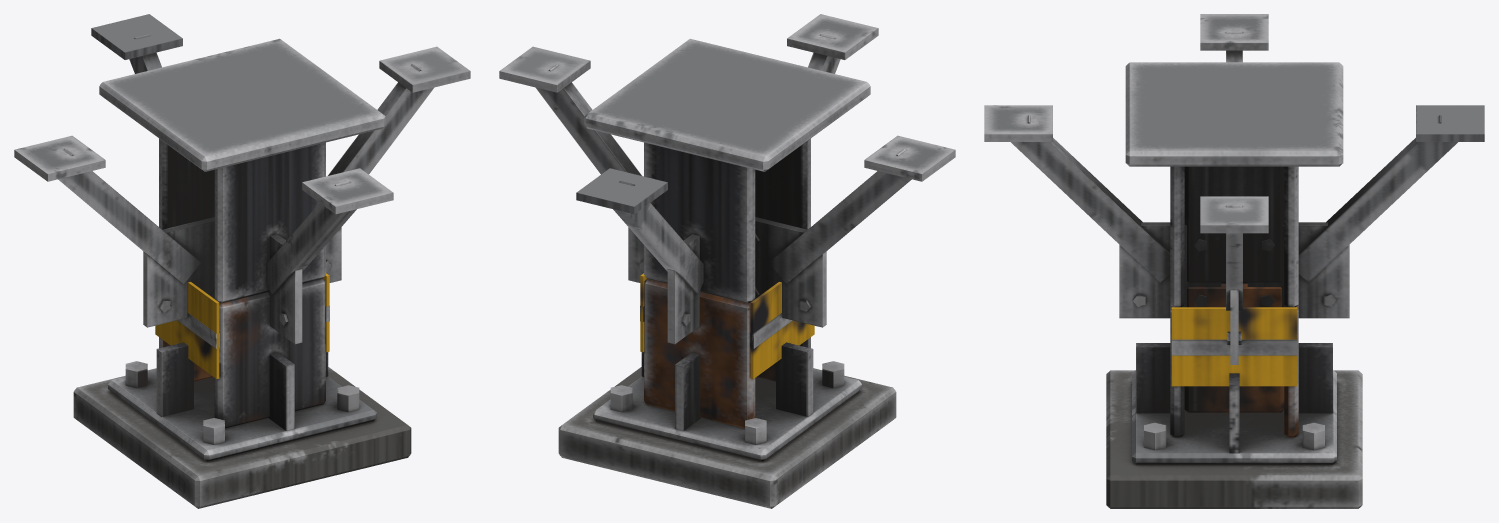
File: nodexeus-set-post-1.glb
The picture shows the model from 3 angles, left to right: view 1: azimuth 30°, elevation 25°; view 2: azimuth 150°, elevation 25°; view 3: azimuth 270°, elevation 25°; orthographic projection. The views are drawn at different scales.
Visible parts, largest first — view 1: set-post-1; view 2: set-post-1; view 3: set-post-1.
Boxes of the visible parts, x1,y1,x2,y2 form: set-post-1: (14,14,470,508); set-post-1: (499,14,955,508); set-post-1: (984,14,1484,508).
Bounding box in the file's own units: 1.75 × 1.35 × 1.75.
Materials: 1 (1 with a texture image).
